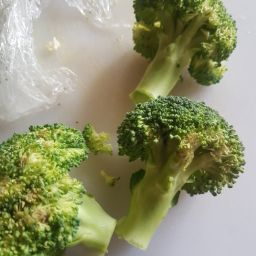Broccoli florets: (104, 87, 251, 256), (4, 119, 119, 256), (120, 1, 244, 108)
